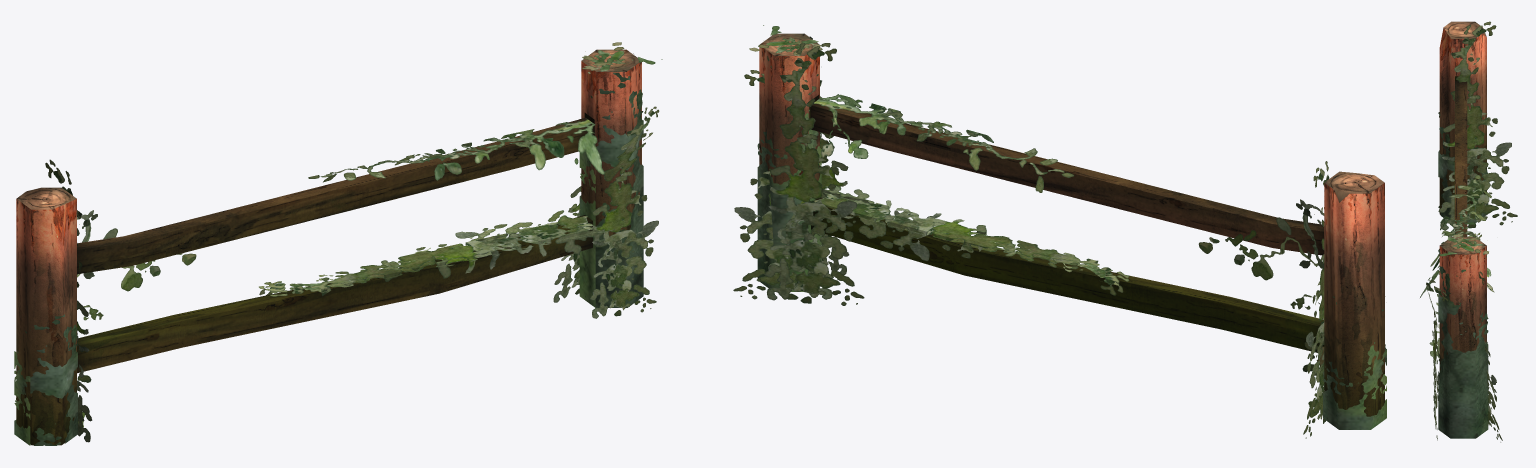
File: fence1.fbx
3 views of the same model, side by side, from view 1: azimuth 30°, elevation 25°; view 2: azimuth 150°, elevation 25°; view 3: azimuth 270°, elevation 25° (orthographic). The views are drawn at different scales.
Visible parts, largest first — view 1: fence1; view 2: fence1; view 3: fence1.
Boxes of the visible parts, box(x1,y1,x2,y2) form: fence1: box(14, 42, 662, 445); fence1: box(733, 25, 1386, 438); fence1: box(1420, 21, 1517, 442).
Bounding box in the file's own units: 347 × 142 × 62.5.
